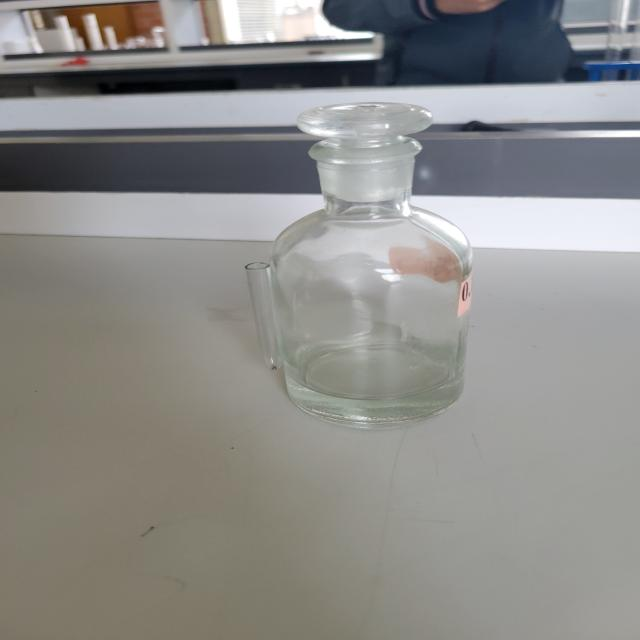Reagent_Bottle: (182, 73, 530, 474)
